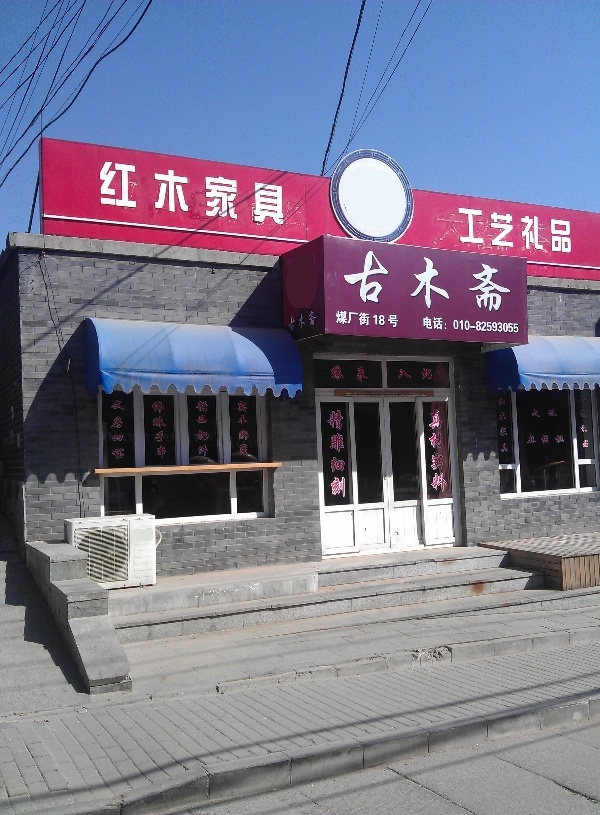text: (433, 406, 447, 495), (337, 407, 348, 500), (113, 159, 128, 227), (129, 159, 144, 227), (145, 159, 160, 227), (161, 159, 176, 227), (177, 159, 192, 227), (193, 159, 208, 227), (209, 159, 224, 227), (225, 159, 240, 227), (241, 159, 256, 227), (257, 159, 272, 227), (353, 248, 368, 314), (369, 248, 384, 314), (385, 248, 400, 314), (401, 248, 416, 314), (417, 248, 432, 314), (433, 248, 448, 314), (449, 248, 464, 314), (465, 248, 480, 314), (481, 248, 496, 314), (497, 248, 510, 314), (327, 407, 336, 500), (113, 400, 127, 459), (273, 159, 285, 227), (578, 395, 592, 450), (497, 397, 510, 456), (195, 401, 208, 459), (101, 159, 112, 227), (465, 208, 480, 254), (481, 208, 496, 254), (497, 208, 512, 254), (513, 208, 528, 254), (529, 208, 544, 254), (545, 208, 560, 254), (342, 248, 352, 314), (241, 401, 251, 457), (151, 401, 160, 460), (561, 208, 572, 254), (161, 401, 169, 460), (427, 406, 432, 495), (289, 310, 304, 333), (433, 316, 448, 335), (449, 316, 464, 335), (465, 316, 480, 335), (481, 316, 496, 335), (497, 316, 512, 335), (458, 208, 464, 254), (305, 310, 317, 333), (353, 366, 369, 383), (337, 311, 352, 329), (353, 311, 368, 329), (369, 311, 384, 329), (337, 366, 352, 383), (385, 311, 399, 329), (422, 316, 432, 335), (401, 368, 416, 380), (417, 368, 432, 380), (237, 401, 240, 457), (529, 434, 544, 445), (545, 434, 560, 445), (531, 408, 544, 419), (545, 408, 558, 419), (513, 316, 520, 335), (110, 400, 112, 459), (331, 366, 336, 383), (209, 401, 210, 459), (561, 434, 565, 445), (525, 434, 528, 445), (398, 368, 400, 380), (433, 368, 435, 380)
